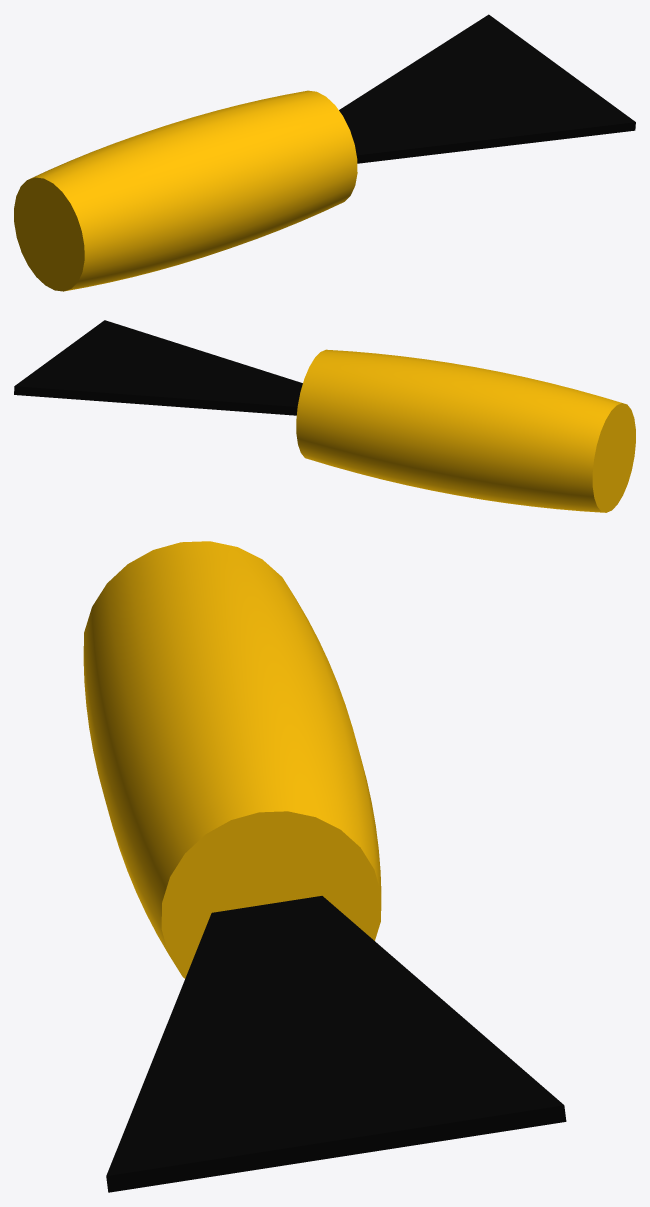
Rendered from trowel_02_origin_gt_1.dae.
3 views of the same model, one above another, from view 1: azimuth 30°, elevation 25°; view 2: azimuth 150°, elevation 25°; view 3: azimuth 270°, elevation 25° (orthographic). The views are drawn at different scales.
Visible parts, largest first — view 1: group_0, group_1; view 2: group_0, group_1; view 3: group_0, group_1.
Part boxes in pixels (box(x1,y1,x2,y2)): group_0: box(14, 90, 357, 291); group_1: box(339, 14, 635, 163); group_0: box(296, 349, 635, 512); group_1: box(14, 320, 302, 415); group_0: box(83, 541, 381, 978); group_1: box(106, 896, 566, 1192).
Size of the model in its own units: 7.89 by 3.07 by 1.64.
